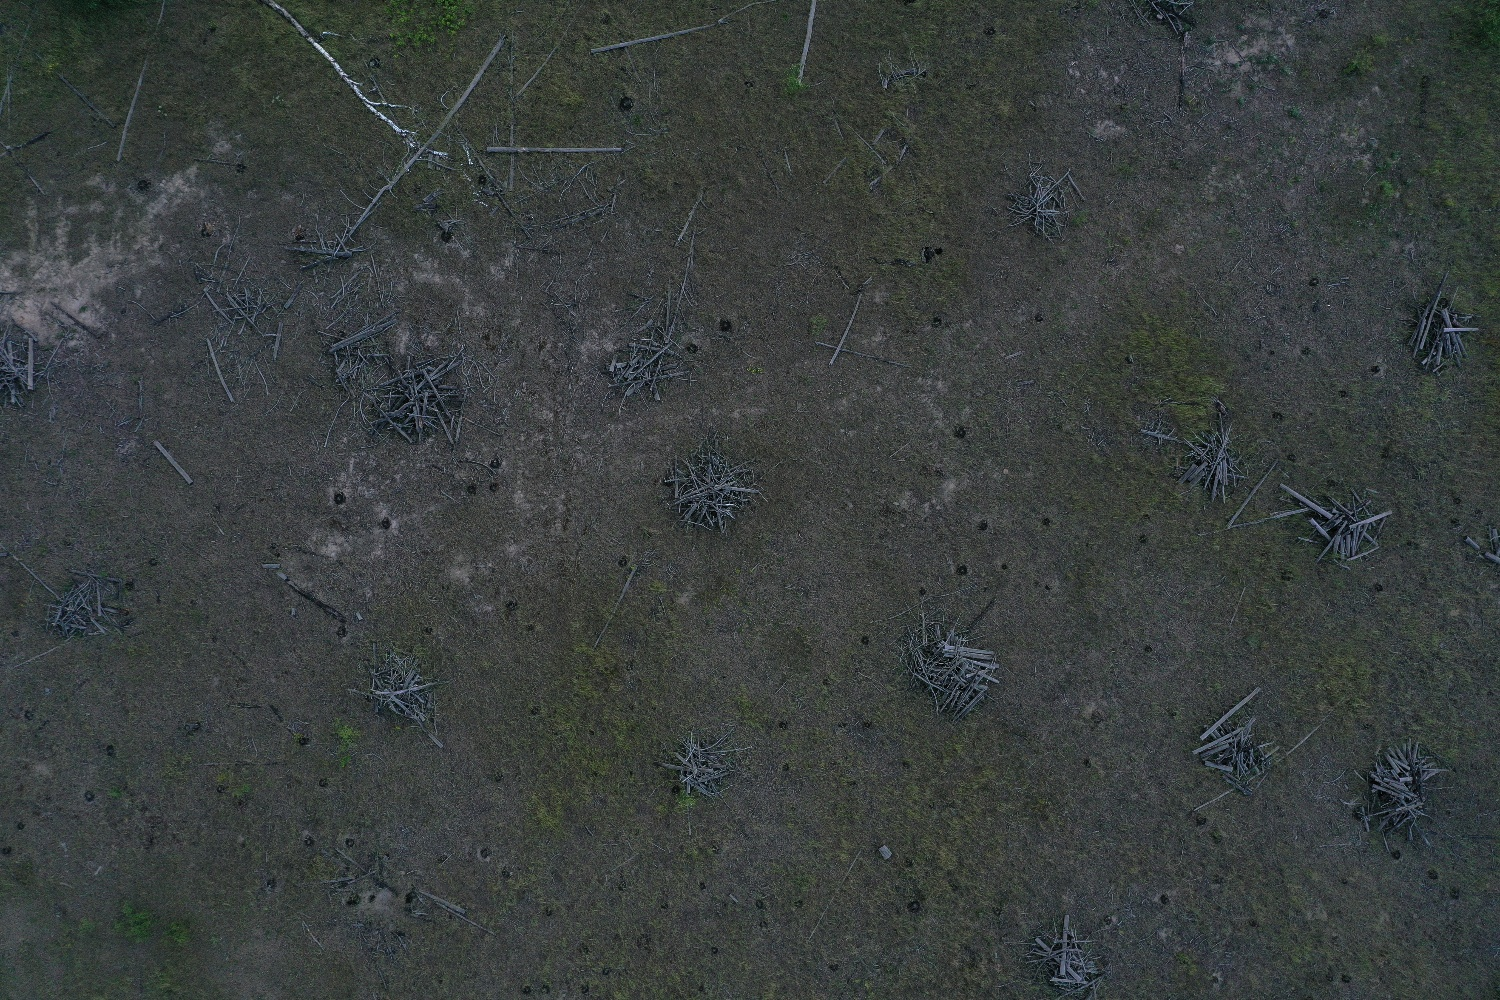branches: (890, 606, 1002, 725), (1191, 685, 1294, 796), (658, 430, 765, 533), (1353, 737, 1454, 842), (365, 353, 473, 445), (1279, 480, 1394, 565), (599, 317, 702, 411), (349, 640, 446, 735), (1013, 914, 1113, 1000), (1406, 271, 1482, 373), (657, 721, 747, 799), (1176, 405, 1246, 503), (41, 565, 127, 640), (1004, 169, 1086, 246), (330, 311, 402, 385), (1, 320, 51, 408)
